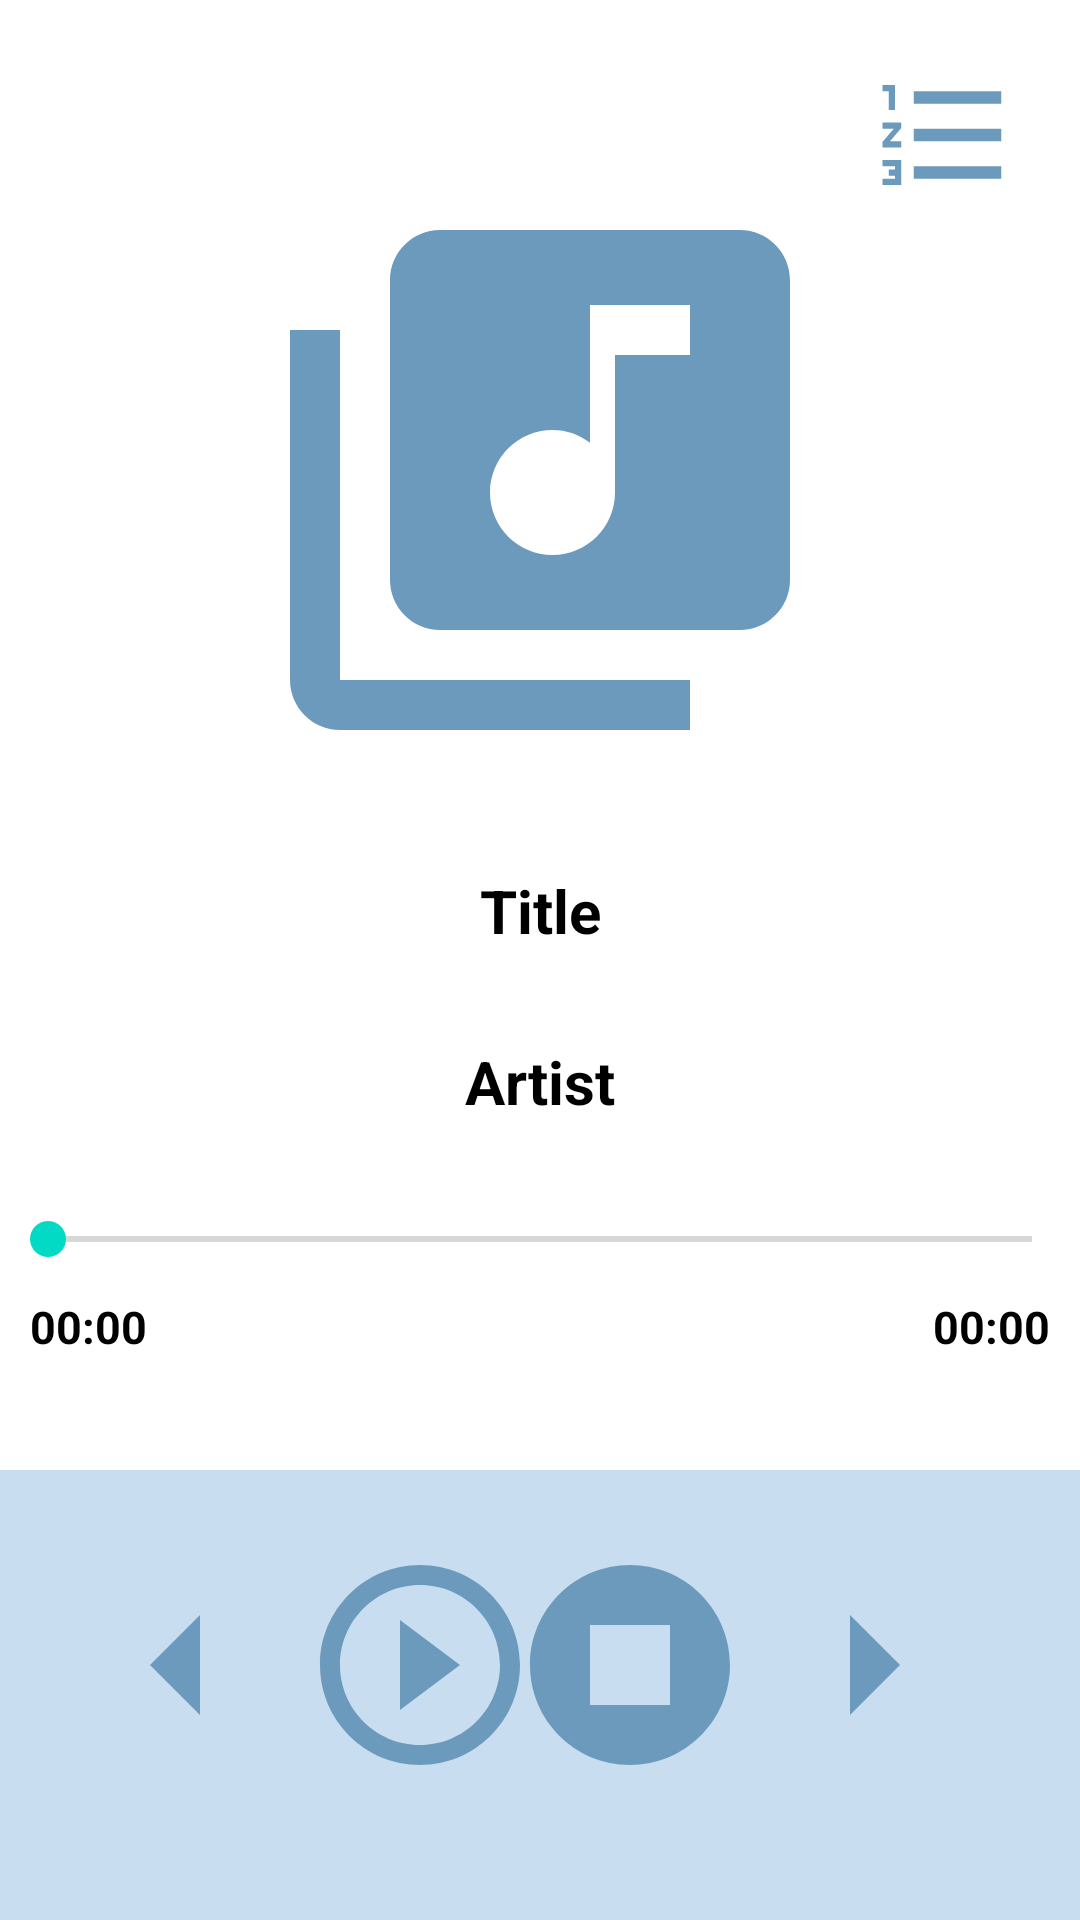

Where to tap for icons on this 1080x1920 app screen, as (x=x, y=y):
left: (x=175, y=1665)
list numbered: (x=942, y=135)
play circle: (x=420, y=1665)
right: (x=875, y=1665)
stop circle: (x=630, y=1665)
